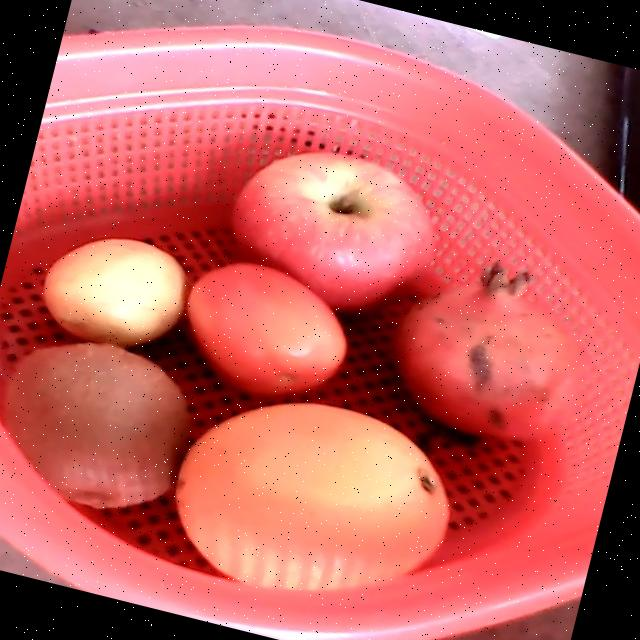apple: (229, 148, 439, 308)
kiwi: (4, 342, 188, 509)
lemon: (42, 237, 188, 346)
orange: (174, 402, 448, 589)
pomegranate: (393, 262, 586, 441)
tomato: (185, 261, 344, 395)
